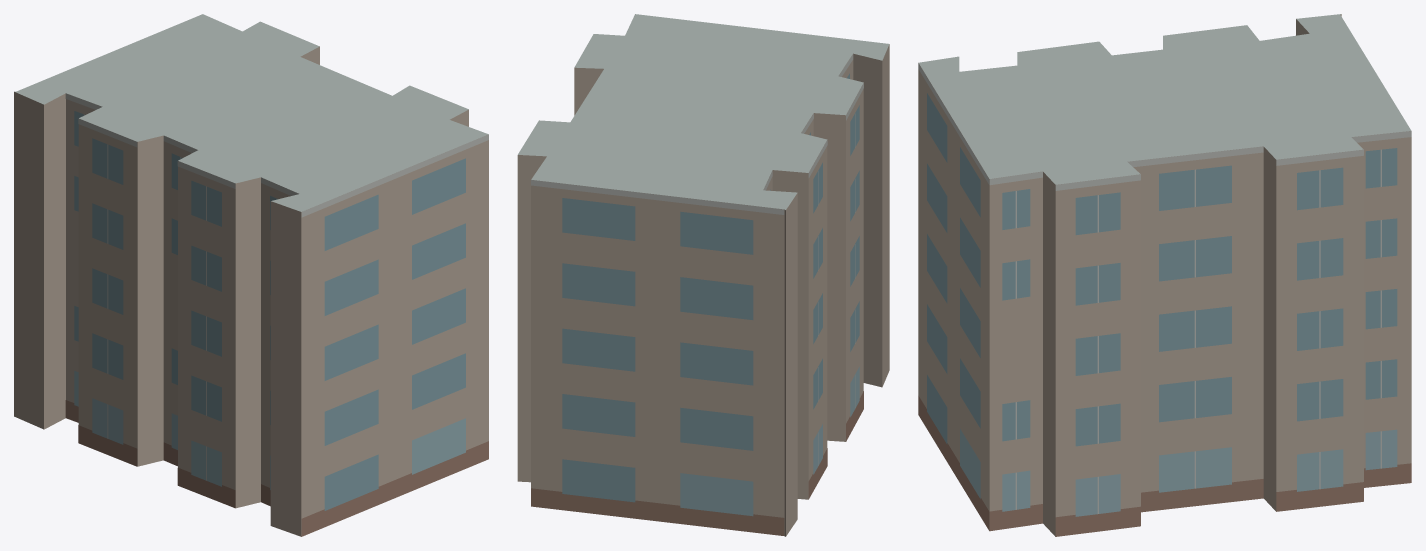
Rendered from survey-upis-32751884.glb.
3 views of the same model, side by side, from view 1: azimuth 30°, elevation 25°; view 2: azimuth 150°, elevation 25°; view 3: azimuth 270°, elevation 25° (orthographic). The views are drawn at different scales.
Parts seen in each view (by area): view 1: survey-upis-32751884.tmp; view 2: survey-upis-32751884.tmp; view 3: survey-upis-32751884.tmp.
Part boxes in pixels (x1,y1,x2,y2): survey-upis-32751884.tmp: [14, 14, 488, 536]; survey-upis-32751884.tmp: [517, 14, 889, 536]; survey-upis-32751884.tmp: [918, 14, 1411, 536].
Bounding box in the file's own units: 14.47 × 13.9 × 17.66.
